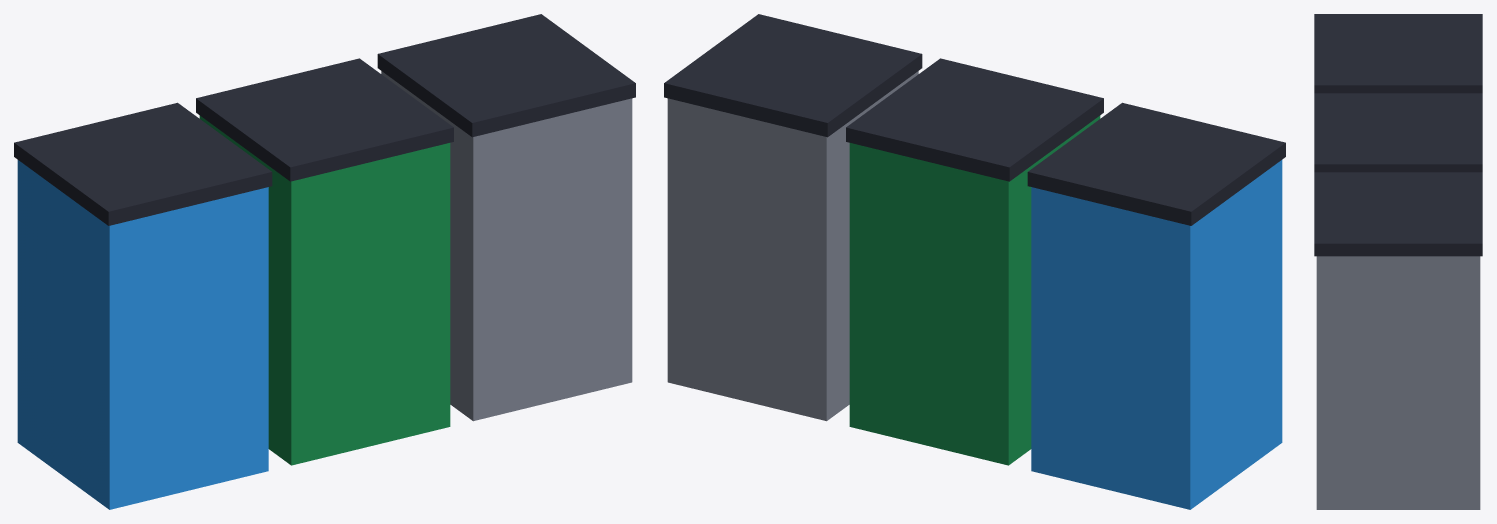
3 views of the same model, side by side, from view 1: azimuth 30°, elevation 25°; view 2: azimuth 150°, elevation 25°; view 3: azimuth 270°, elevation 25° (orthographic). The views are drawn at different scales.
Parts seen in each view (by area): view 1: bin_paper, bin_glass, bin_general, lid_paper, lid_general, lid_glass; view 2: bin_paper, bin_glass, bin_general, lid_paper, lid_general, lid_glass; view 3: bin_general, lid_general, lid_paper, lid_glass.
Boxes of the visible parts, box(x1,y1,x2,y2) form: bin_paper: box(17, 160, 268, 509); bin_glass: box(199, 115, 450, 465); bin_general: box(381, 71, 632, 421); lid_paper: box(14, 102, 272, 225); lid_general: box(377, 14, 635, 137); lid_glass: box(196, 58, 453, 181); bin_paper: box(1031, 160, 1282, 509); bin_glass: box(849, 115, 1100, 465); bin_general: box(667, 71, 918, 421); lid_paper: box(1027, 102, 1285, 225); lid_general: box(664, 14, 922, 137); lid_glass: box(846, 58, 1103, 181); bin_general: box(1316, 256, 1480, 509); lid_general: box(1314, 172, 1482, 256); lid_paper: box(1314, 14, 1482, 93); lid_glass: box(1314, 93, 1482, 172).
Bounding box in the file's own units: 1.16 × 0.63 × 0.36.
